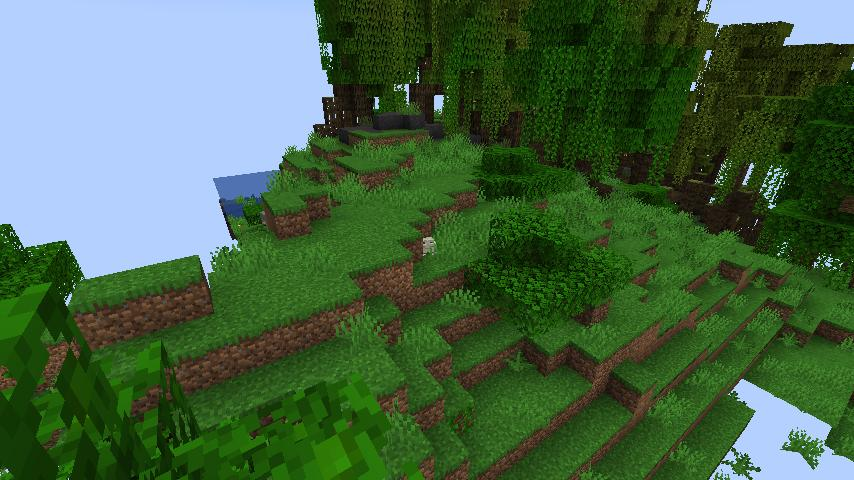frog: (419, 235, 440, 257)
